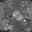people: (13, 10, 23, 22)
